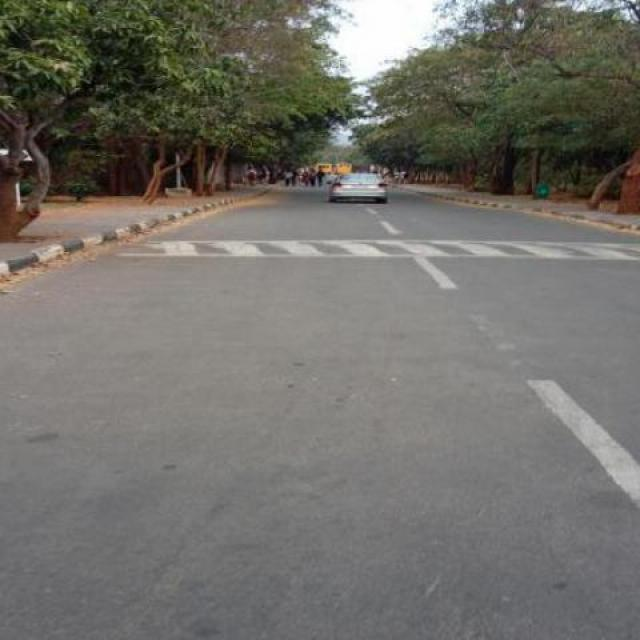Speed Bump: (104, 238, 639, 262)
